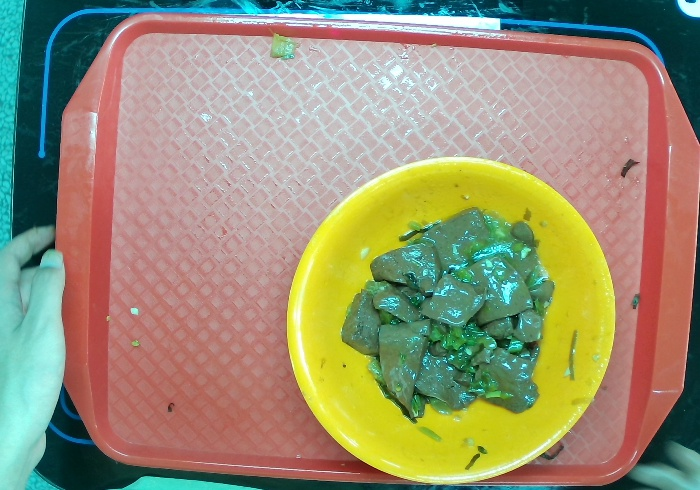YKMZ-Ju_Se_Tang_Wan: (283, 153, 617, 486)
